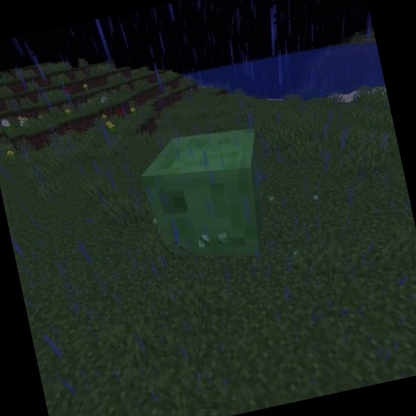slime: (128, 115, 286, 282)
